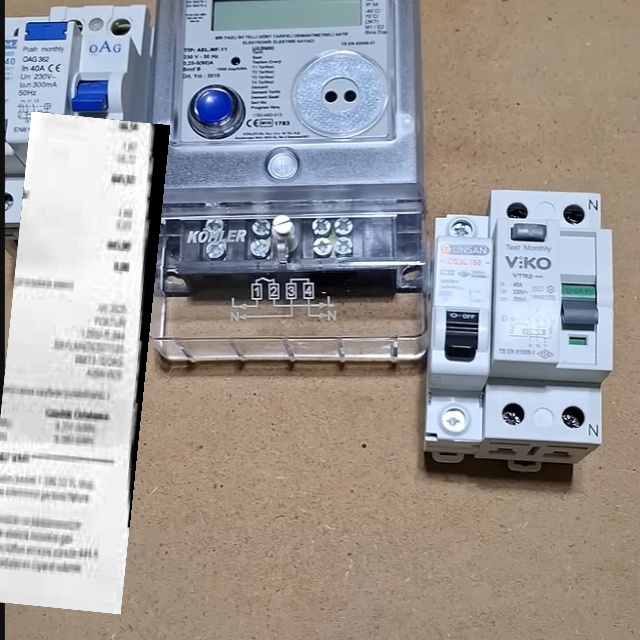electricity-bill: (0, 110, 169, 614)
